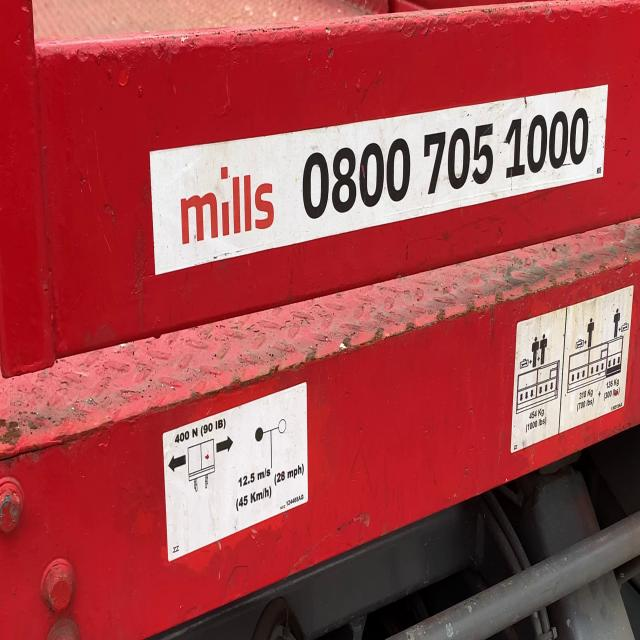Adesivo Longo: (148, 71, 612, 282)
